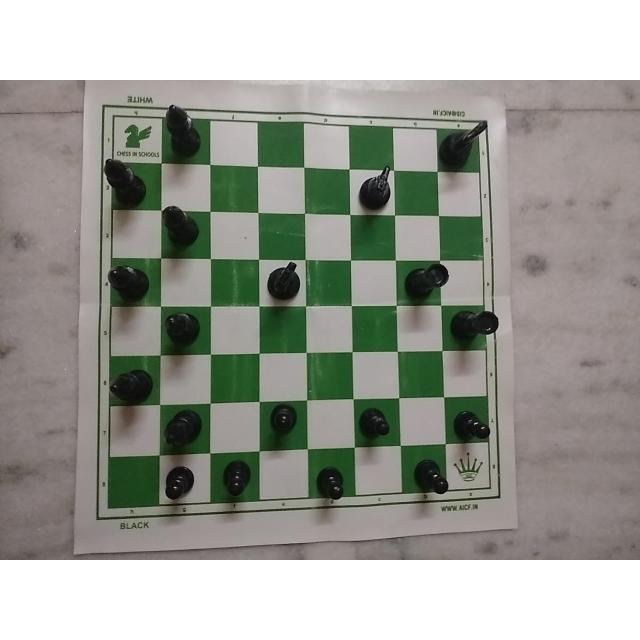black-bishop: (156, 101, 212, 167), (102, 158, 160, 208), (156, 409, 208, 460), (153, 306, 206, 356), (156, 202, 206, 248), (106, 364, 157, 408), (102, 260, 146, 303)
black-knight: (437, 114, 487, 167), (257, 258, 304, 308), (354, 167, 397, 213)
black-pawn: (310, 456, 357, 504), (411, 452, 455, 500), (211, 459, 259, 500), (163, 457, 204, 503), (353, 404, 399, 444), (447, 407, 495, 445), (264, 409, 303, 445)
black-rook: (446, 306, 502, 346), (400, 259, 452, 298)
